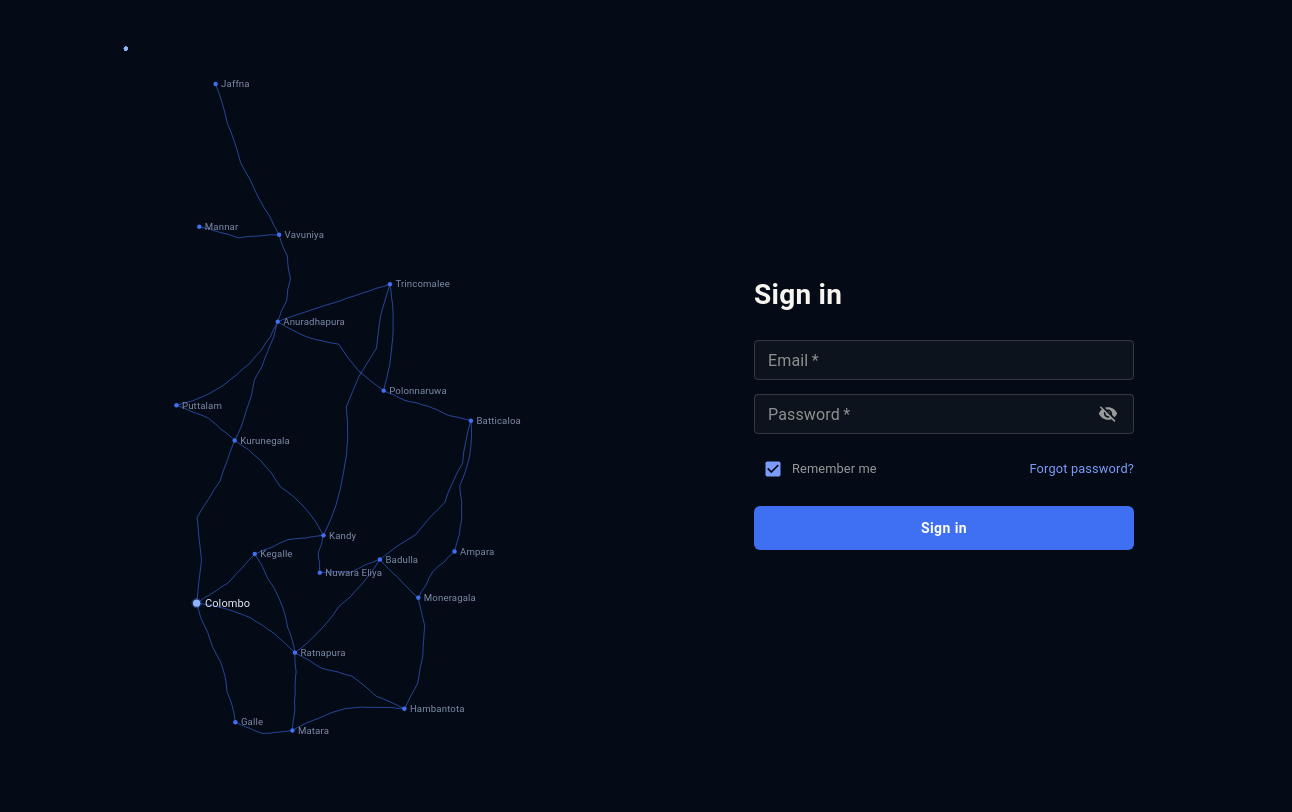
Test: LoginPage › shows the crossed-out eye while the password is hidden, and the open eye once revealed
This screenshot has width=1292, height=812.
Click the button named "show password" at x=1108, y=414, box [1093,399,1123,429]
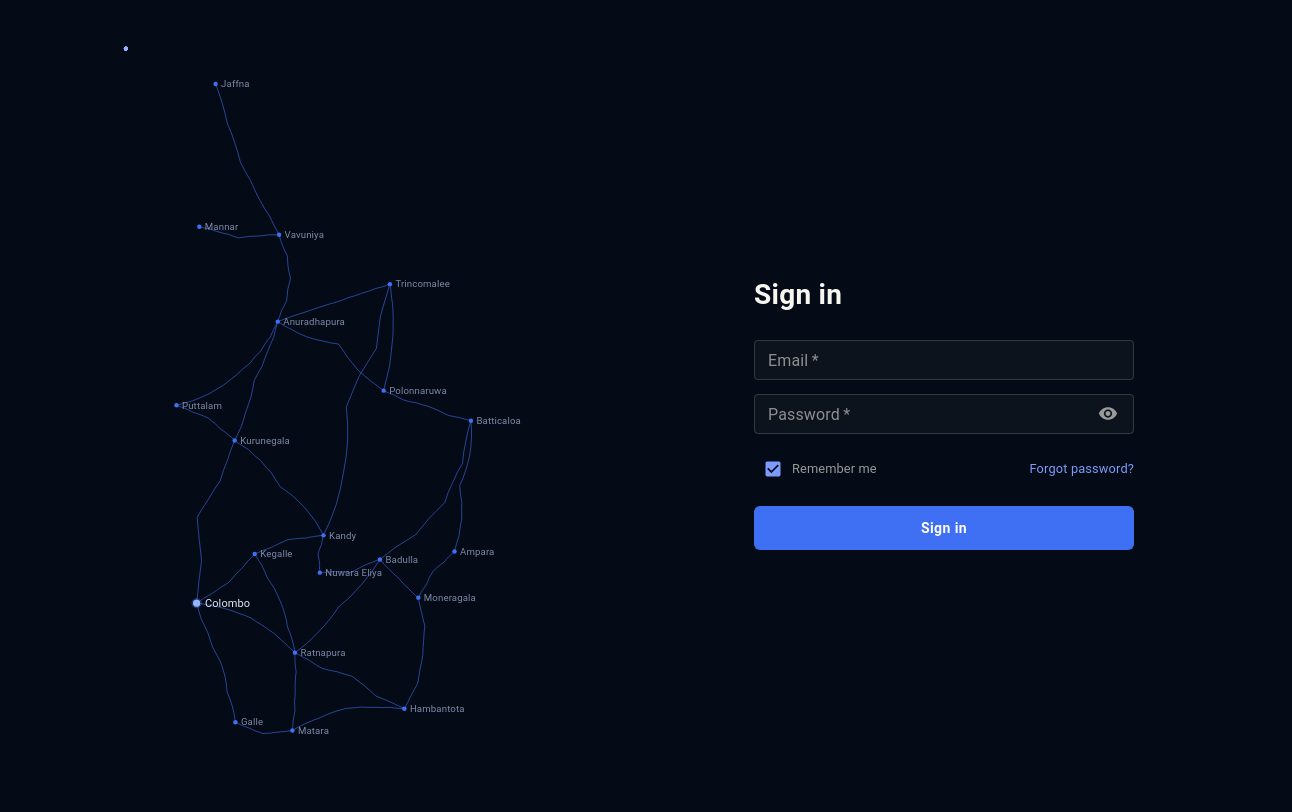
Now the button named "hide password" is shown, box [1093,399,1123,429]
